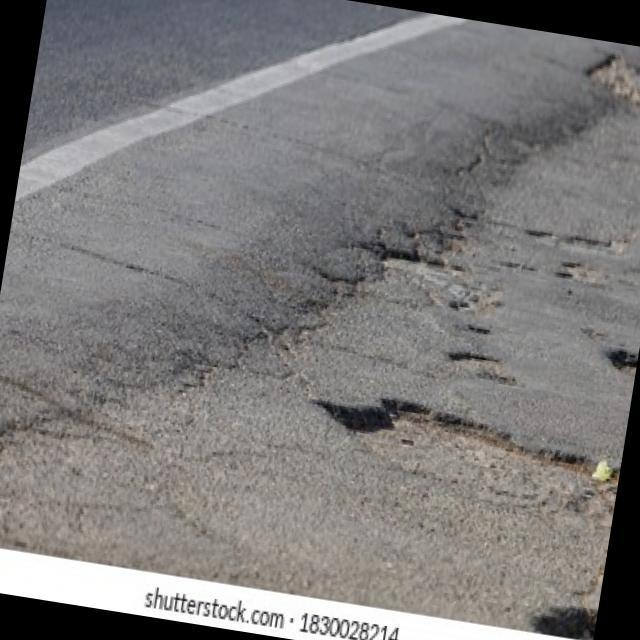Pothole: (298, 382, 600, 518), (368, 244, 500, 316), (577, 45, 640, 123), (446, 348, 524, 392), (525, 594, 599, 640), (564, 232, 630, 262), (556, 256, 608, 290), (603, 344, 639, 379), (526, 228, 552, 248), (467, 322, 492, 338)
